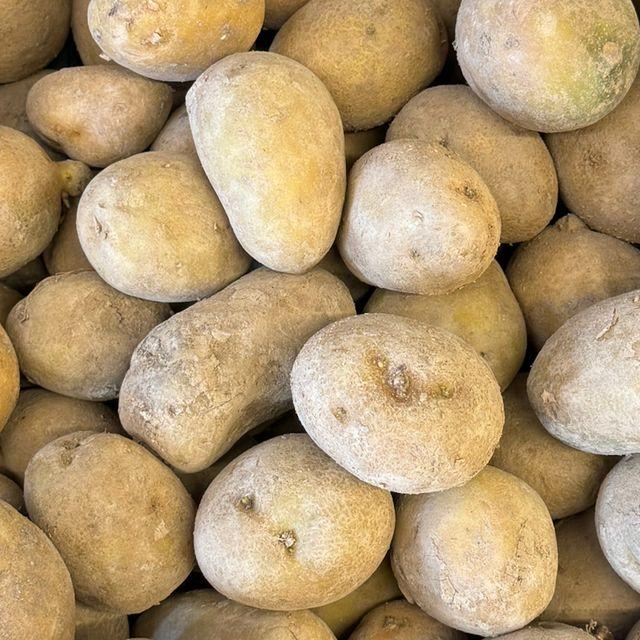potato: (175, 13, 372, 303)
